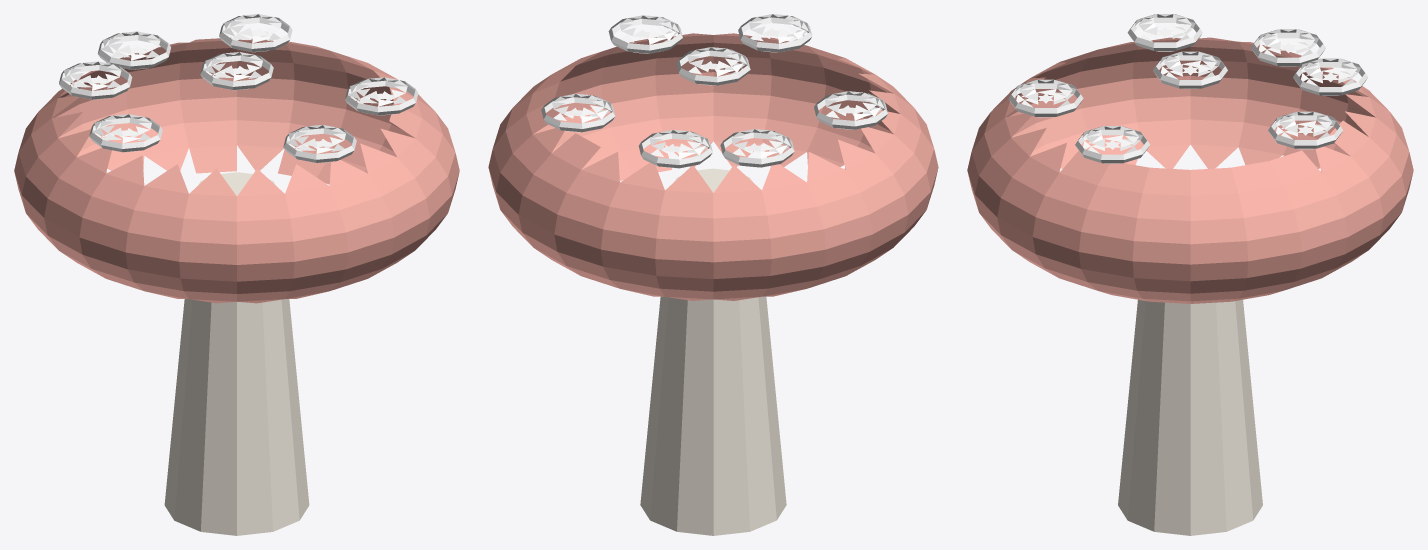
Rendered from mushroom.glb.
3 renders of one model, left to right at view 1: azimuth 30°, elevation 25°; view 2: azimuth 150°, elevation 25°; view 3: azimuth 270°, elevation 25°, orthographic.
Visible parts, largest first — view 1: Pilz_Cap, Pilz_Stem, Pilz_Dot1, Pilz_Dot3, Pilz_Dot0, Pilz_Dot2, Pilz_Dot5, Pilz_Dot4, Pilz_Dot6; view 2: Pilz_Cap, Pilz_Stem, Pilz_Dot0, Pilz_Dot2, Pilz_Dot3, Pilz_Dot1, Pilz_Dot6, Pilz_Dot4, Pilz_Dot5; view 3: Pilz_Cap, Pilz_Stem, Pilz_Dot5, Pilz_Dot1, Pilz_Dot3, Pilz_Dot2, Pilz_Dot6, Pilz_Dot4, Pilz_Dot0.
Boxes of the visible parts, box(x1,y1,x2,y2) form: Pilz_Cap: box(14, 37, 459, 303); Pilz_Stem: box(164, 172, 309, 535); Pilz_Dot1: box(59, 61, 132, 99); Pilz_Dot3: box(219, 14, 292, 52); Pilz_Dot0: box(200, 52, 273, 90); Pilz_Dot2: box(283, 125, 356, 163); Pilz_Dot5: box(345, 77, 418, 115); Pilz_Dot4: box(89, 114, 162, 152); Pilz_Dot6: box(97, 31, 170, 69); Pilz_Cap: box(488, 33, 938, 300); Pilz_Stem: box(640, 168, 786, 535); Pilz_Dot0: box(676, 47, 750, 85); Pilz_Dot2: box(738, 14, 812, 52); Pilz_Dot3: box(541, 93, 615, 132); Pilz_Dot1: box(720, 129, 794, 167); Pilz_Dot6: box(638, 130, 712, 168); Pilz_Dot4: box(814, 91, 887, 129); Pilz_Dot5: box(608, 15, 682, 53); Pilz_Cap: box(967, 37, 1413, 303); Pilz_Stem: box(1118, 299, 1262, 535); Pilz_Dot5: box(1075, 126, 1149, 163); Pilz_Dot1: box(1251, 29, 1325, 66); Pilz_Dot3: box(1268, 111, 1342, 149); Pilz_Dot2: box(1008, 79, 1083, 117); Pilz_Dot6: box(1293, 58, 1367, 95); Pilz_Dot4: box(1127, 14, 1202, 51); Pilz_Dot0: box(1153, 51, 1227, 88).
Bounding box in the file's own units: 3.2 × 3.52 × 3.2.
